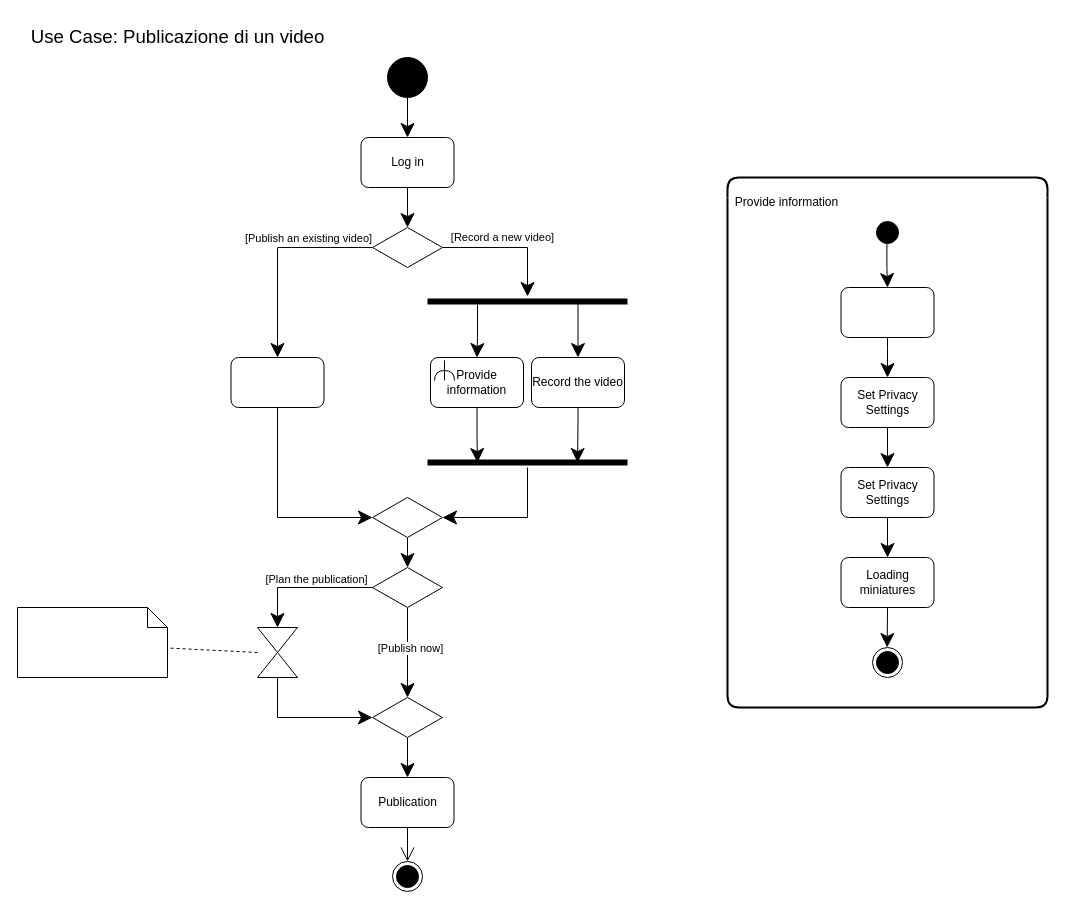
The diagram is 1066 pixels wide and 909 high, and some of its shapes have lost their labels. The shapes that lost their labels are listed below. From the top down, each one's centre as x and y in pixels, then its label:
At (x=887, y=312): "Add title and desciption".
At (x=277, y=382): "Upload the video".
At (x=92, y=642): "Posting waiting period until the scheduled time arrives".
